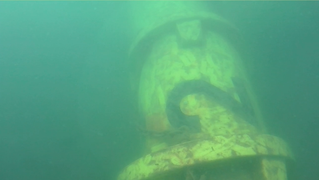2: (166, 76, 260, 134)
pipe: (117, 1, 291, 180)
